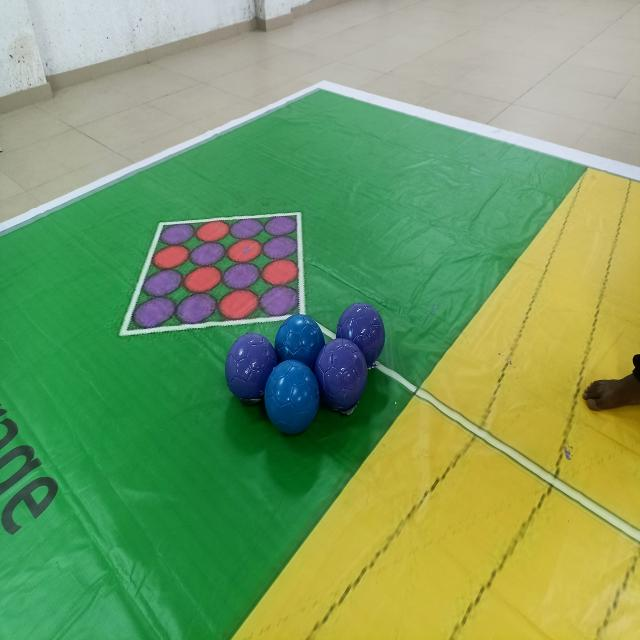blue_ball: (262, 359, 319, 438), (274, 295, 326, 359)
purple_ball: (225, 329, 279, 400), (319, 343, 370, 408), (337, 299, 389, 360)
